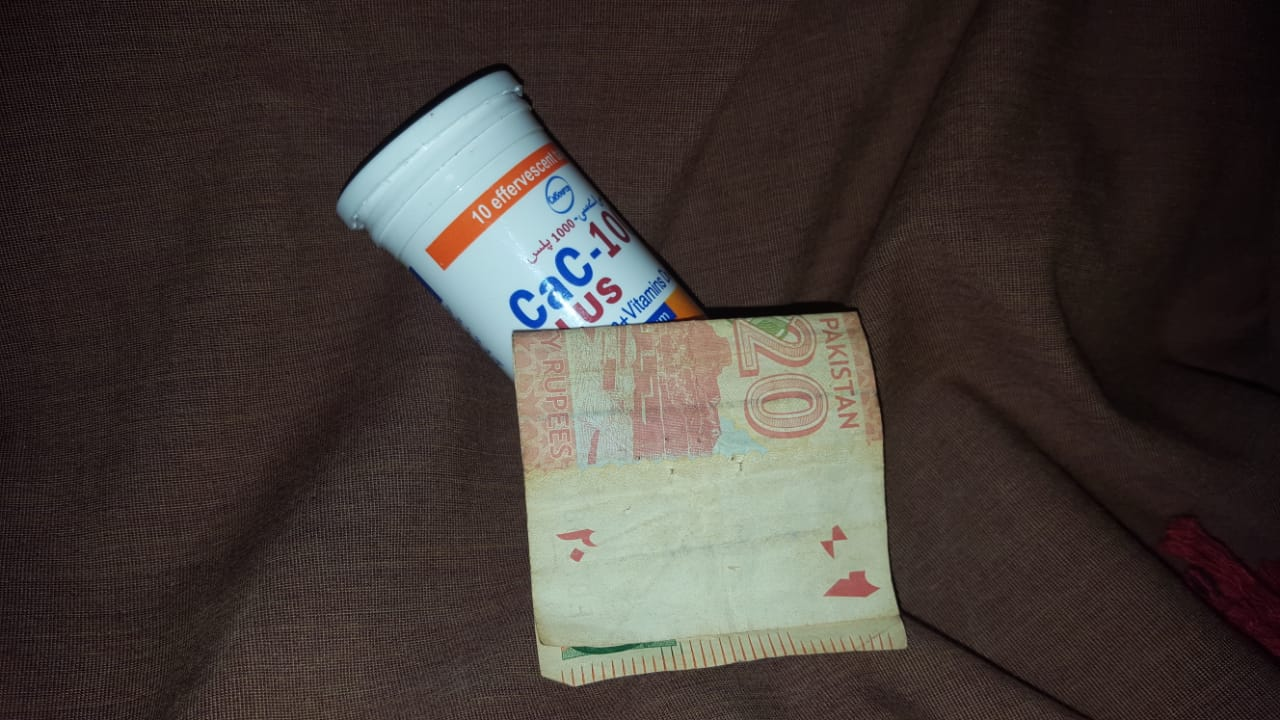20 rupee: (512, 313, 942, 690)
